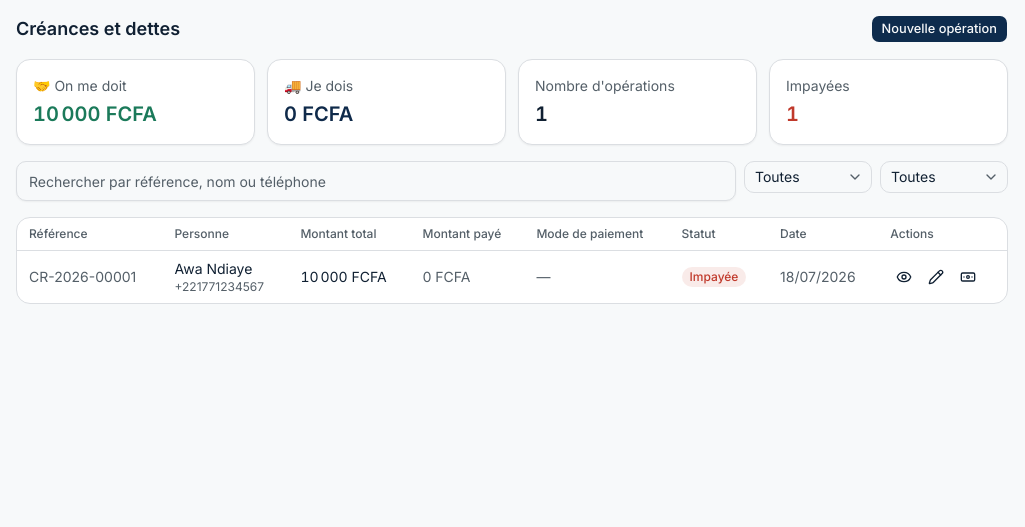
TransactionsList — reçu WhatsApp après paiement rapide › propose le reçu WhatsApp après un paiement rapide qui règle une créance
The image size is (1025, 527).
Click the button named "Encaisser" at coordinates (968, 277), box [954,263,982,291]
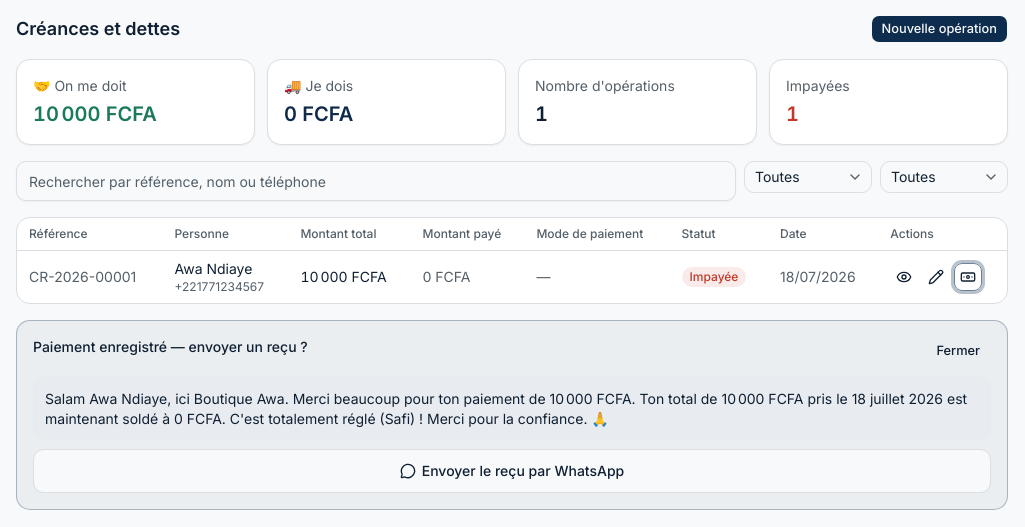
Now the button "Envoyer le reçu par WhatsApp" is shown, box [33,449,991,493]
